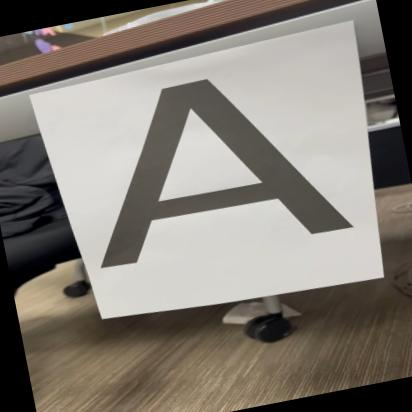seat: (59, 44, 376, 284)
